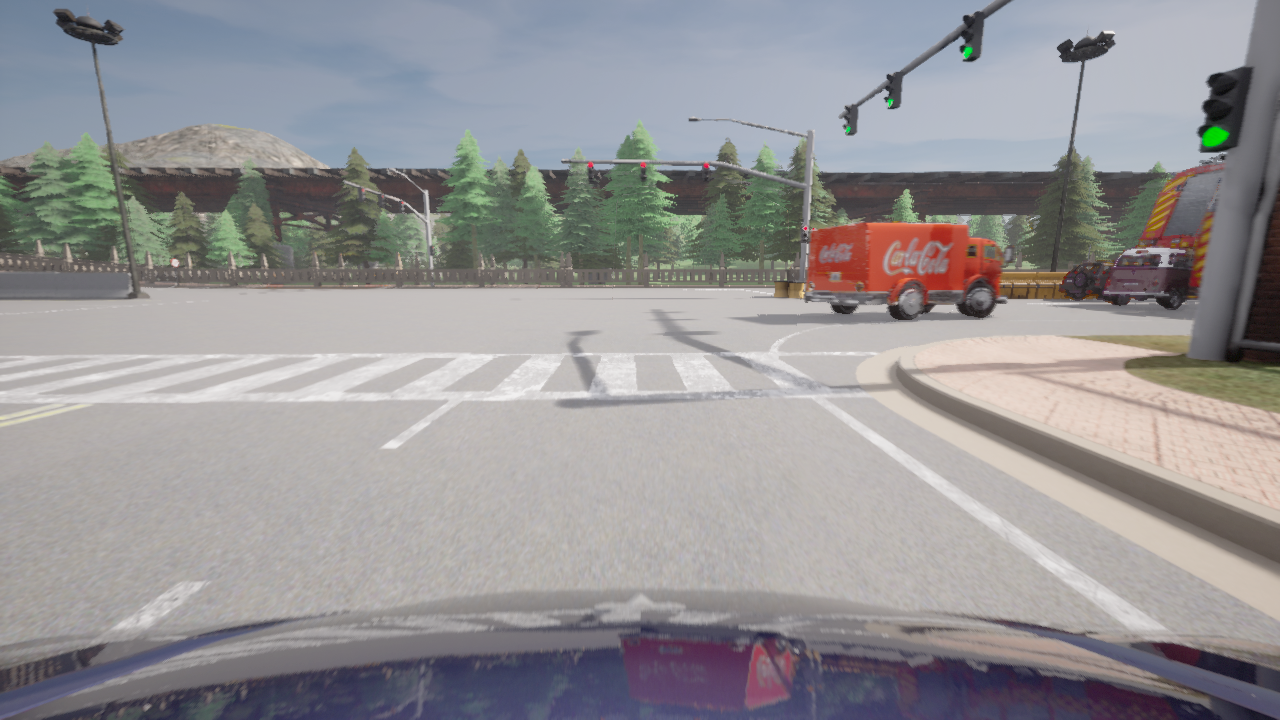cyclist: (0, 588, 1279, 719), (804, 222, 1013, 321), (1136, 155, 1225, 249), (1102, 247, 1195, 309), (1059, 261, 1186, 301), (1186, 202, 1216, 298), (1114, 259, 1116, 260)
pedestrian: (307, 265, 311, 284), (790, 265, 793, 279)
